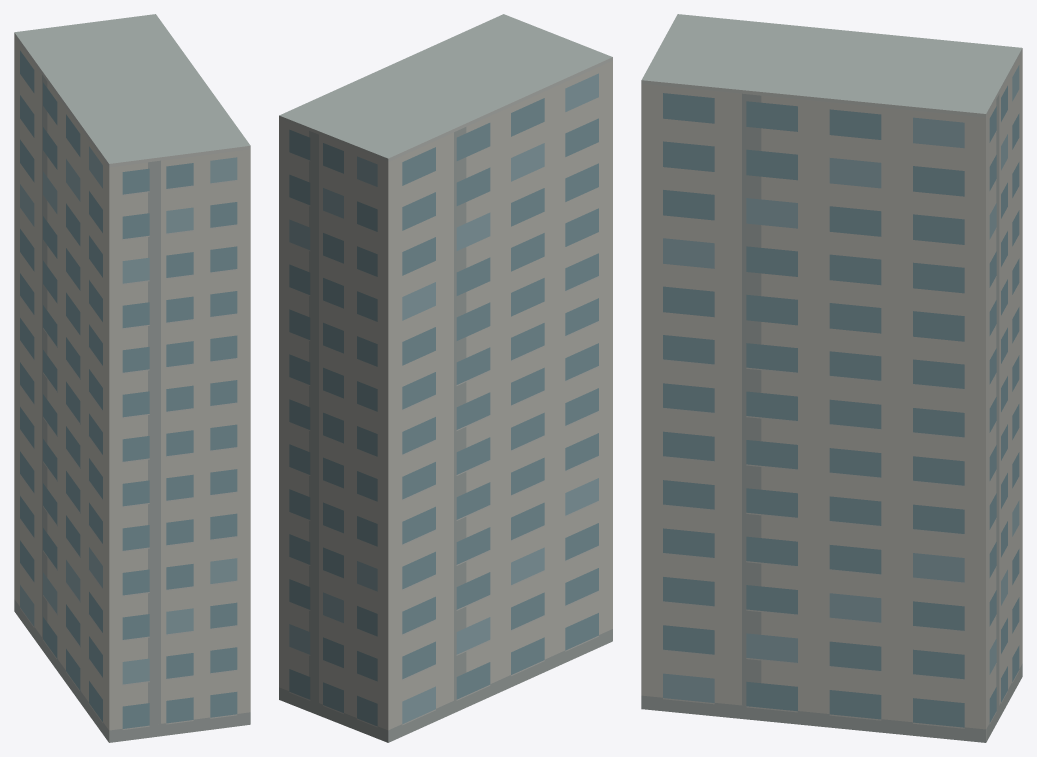
The model's file is residential-035676fc-4825-4e0f-b5aa-c9c9229b8d48.glb.
3 renders of one model, left to right at view 1: azimuth 30°, elevation 25°; view 2: azimuth 150°, elevation 25°; view 3: azimuth 270°, elevation 25°, orthographic. The views are drawn at different scales.
Visible parts, largest first — view 1: residential-035676fc-4825-4e0f-b5aa-c9c9229b8d48.tmp; view 2: residential-035676fc-4825-4e0f-b5aa-c9c9229b8d48.tmp; view 3: residential-035676fc-4825-4e0f-b5aa-c9c9229b8d48.tmp.
Boxes of the visible parts, x1=… form: residential-035676fc-4825-4e0f-b5aa-c9c9229b8d48.tmp: x1=14, y1=14, x2=250, y2=742; residential-035676fc-4825-4e0f-b5aa-c9c9229b8d48.tmp: x1=279, y1=14, x2=612, y2=742; residential-035676fc-4825-4e0f-b5aa-c9c9229b8d48.tmp: x1=641, y1=14, x2=1022, y2=742.
Bounding box in the file's own units: 14.34 × 42 × 23.08.
